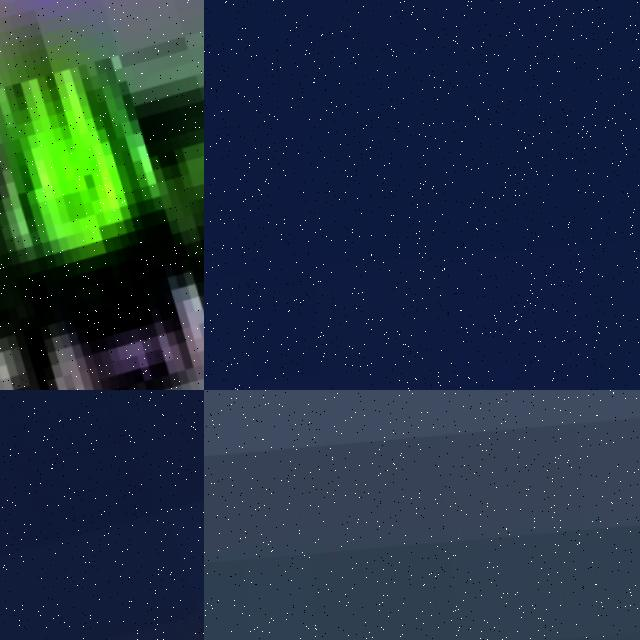drone: (0, 0, 204, 390), (0, 390, 204, 640)
